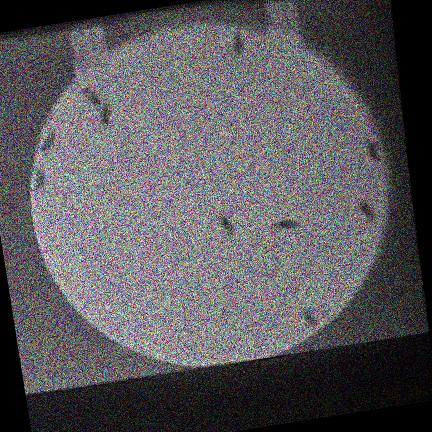fly: (218, 211, 235, 237), (359, 200, 376, 224), (84, 87, 103, 107), (40, 131, 56, 153), (367, 139, 381, 161), (303, 308, 318, 328), (272, 219, 299, 230), (100, 103, 112, 127), (232, 32, 243, 56), (34, 168, 45, 191)
